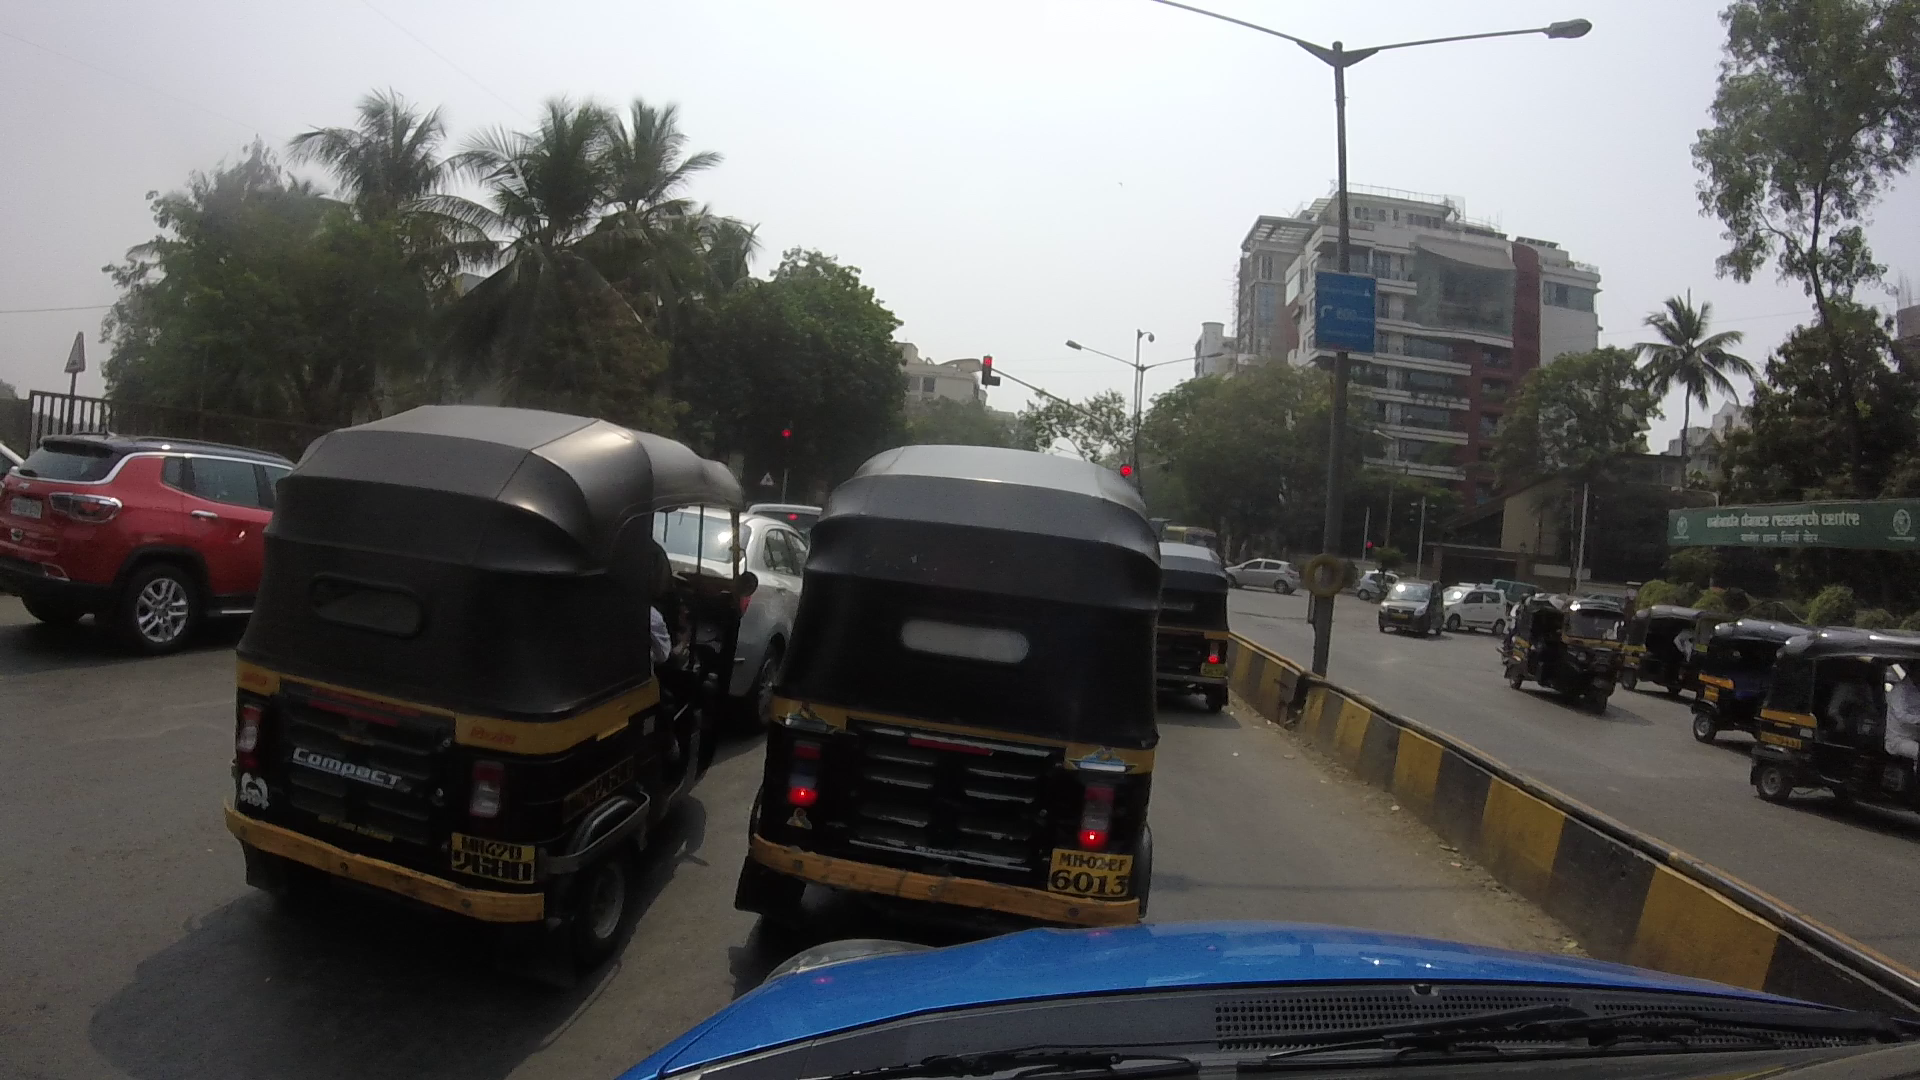car: (8, 436, 278, 640), (644, 506, 814, 654), (1378, 585, 1428, 636)
rickshaw: (231, 415, 758, 951), (758, 436, 1155, 934), (1760, 630, 1908, 822), (1681, 613, 1828, 752), (1134, 533, 1249, 707), (1487, 592, 1619, 716)
